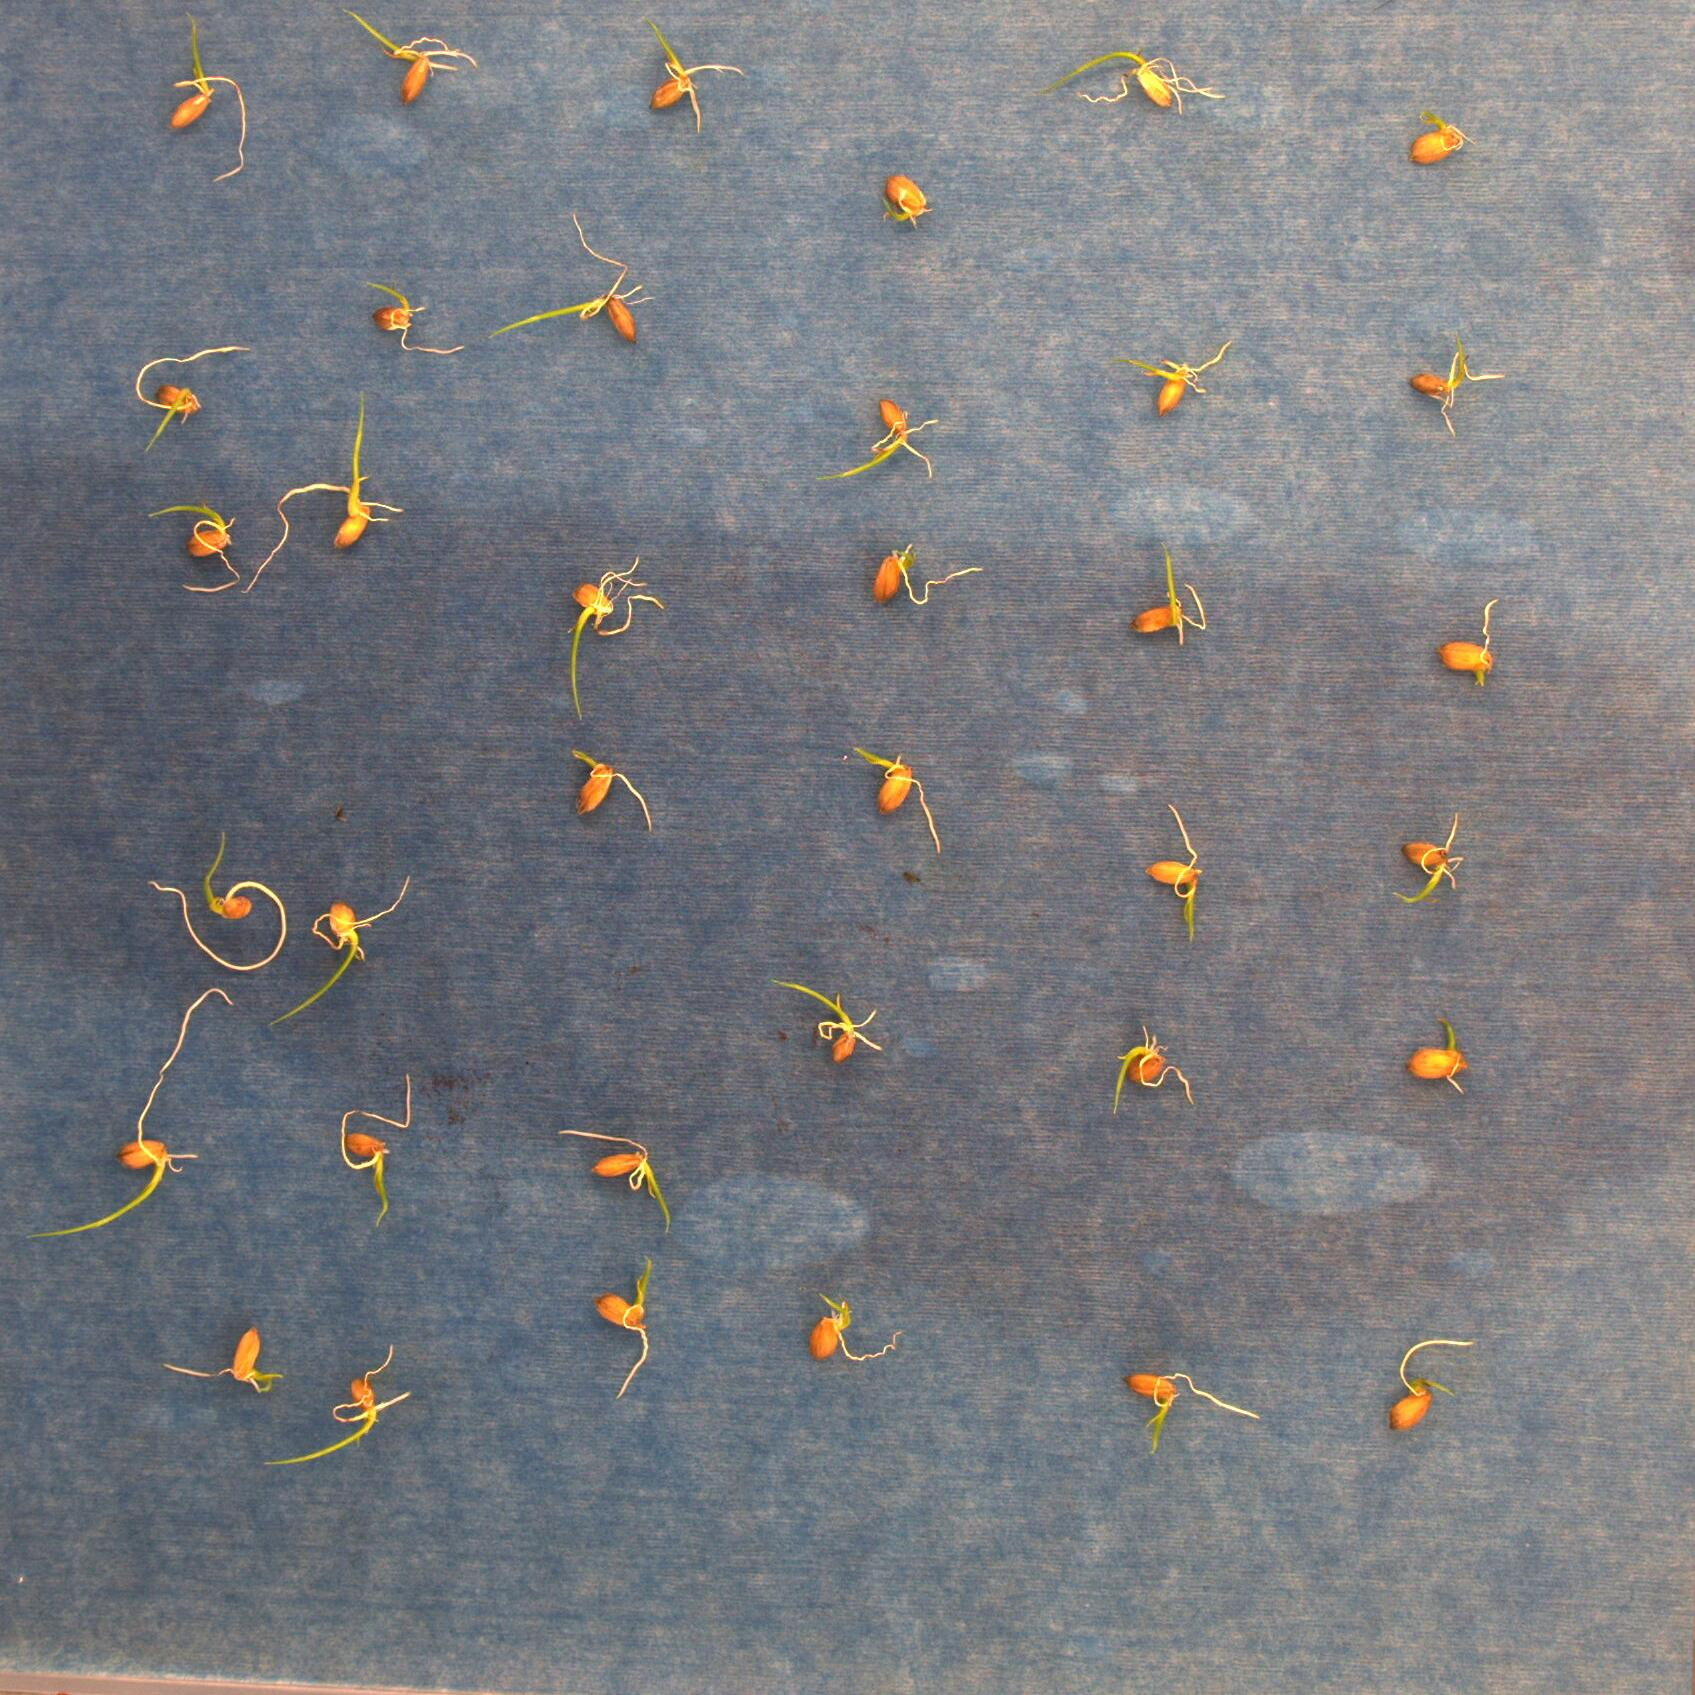not sprout: (1385, 1333, 1485, 1440), (861, 536, 990, 616), (781, 1291, 913, 1369), (166, 1321, 279, 1405), (1430, 581, 1504, 692), (1402, 99, 1478, 172), (872, 168, 934, 236)
sprout: (29, 989, 241, 1245), (262, 388, 396, 591), (483, 220, 655, 359), (265, 880, 428, 1023), (146, 829, 287, 969), (556, 554, 667, 723), (267, 1350, 414, 1470), (321, 1062, 427, 1226), (551, 1118, 688, 1239), (1127, 1358, 1270, 1468), (166, 12, 255, 183), (118, 334, 253, 445), (629, 23, 751, 144), (1055, 40, 1226, 120), (349, 3, 473, 110), (768, 970, 891, 1077), (846, 737, 951, 860), (581, 1256, 667, 1399), (1138, 789, 1211, 944), (1395, 338, 1510, 436), (1133, 329, 1250, 425), (146, 498, 255, 601), (826, 397, 948, 487), (1378, 807, 1478, 906), (1132, 539, 1211, 658), (1107, 1018, 1205, 1114), (366, 275, 467, 365), (556, 744, 661, 829), (1405, 1017, 1484, 1104)
